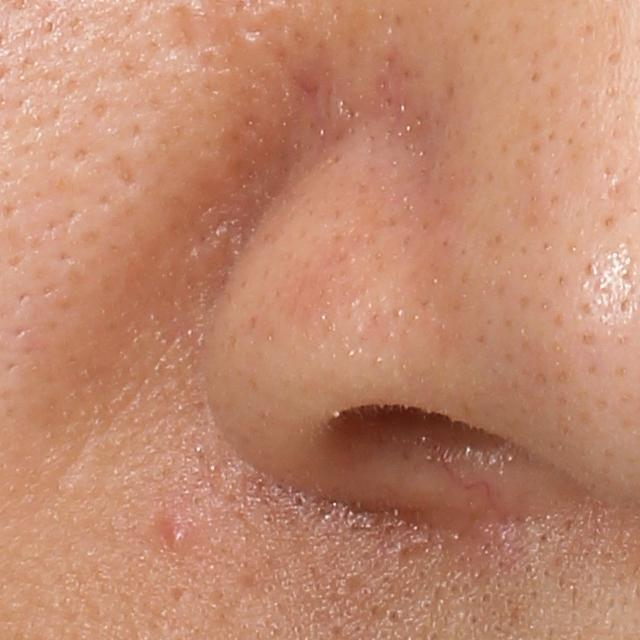papule: (157, 522, 196, 552)
